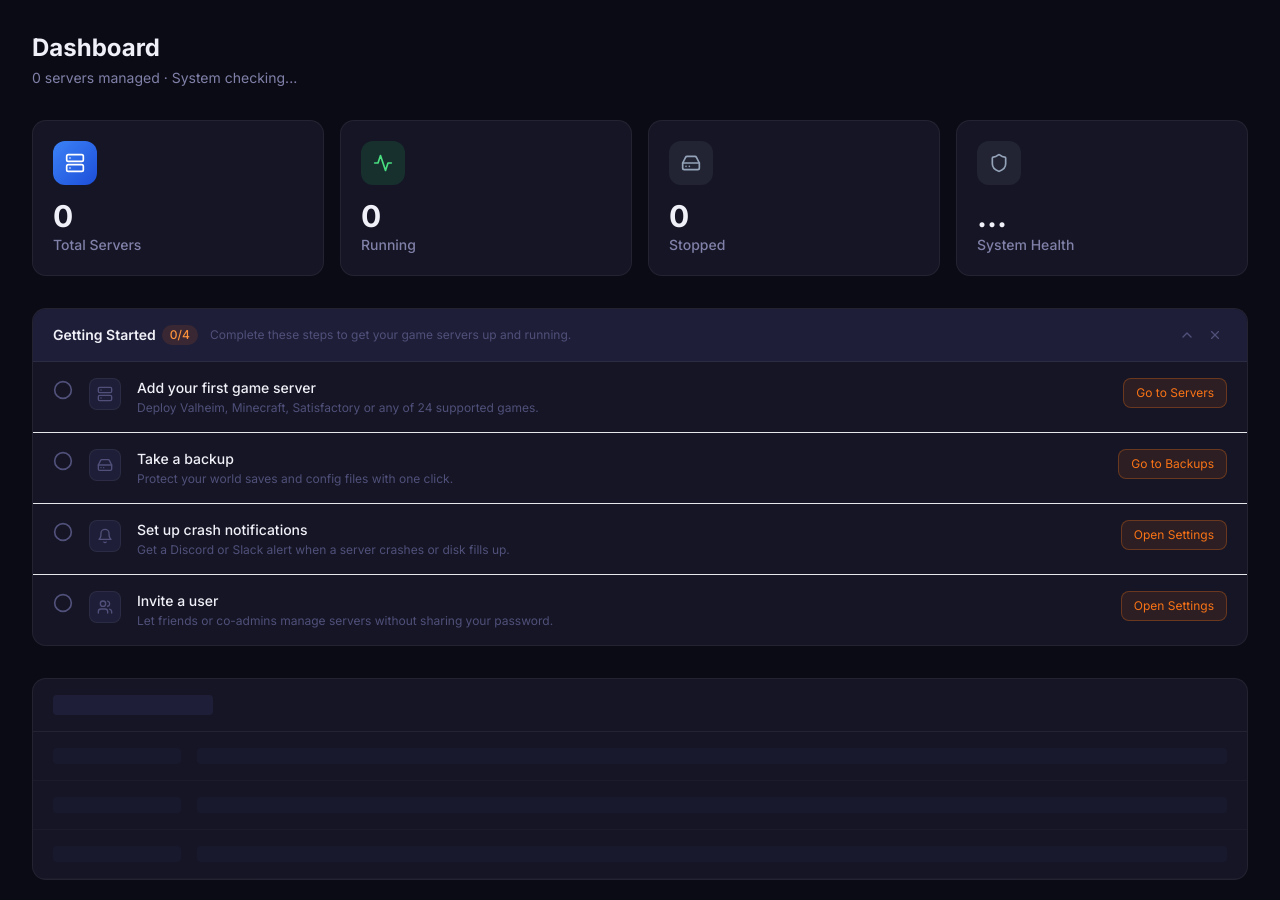
Scenario: DashboardPage › GettingStartedChecklist › hides checklist after dismiss button click
Click the button titled "Dismiss" at coordinates (1215, 335), box [1203,323,1227,347]
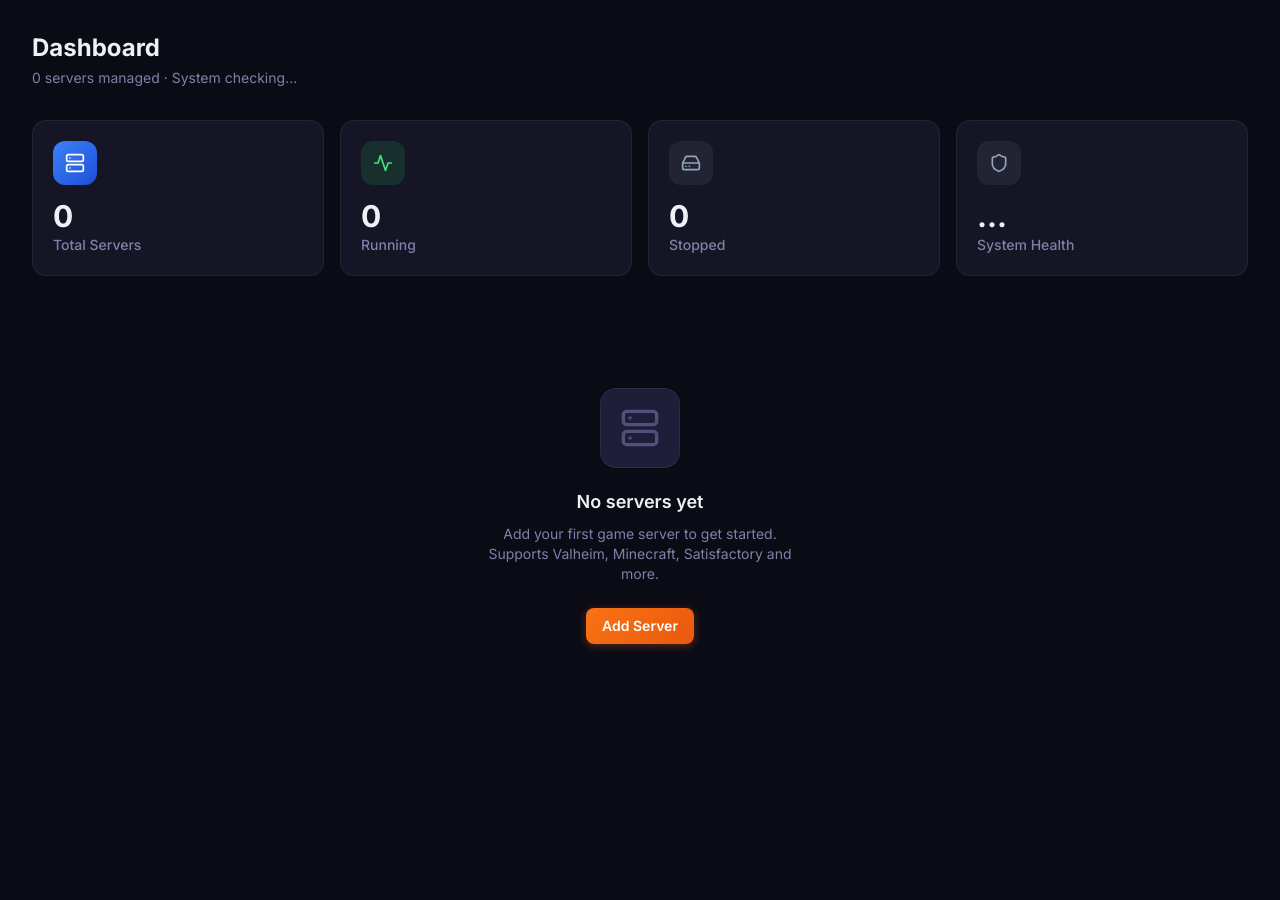
Now the text "Getting Started" is gone
